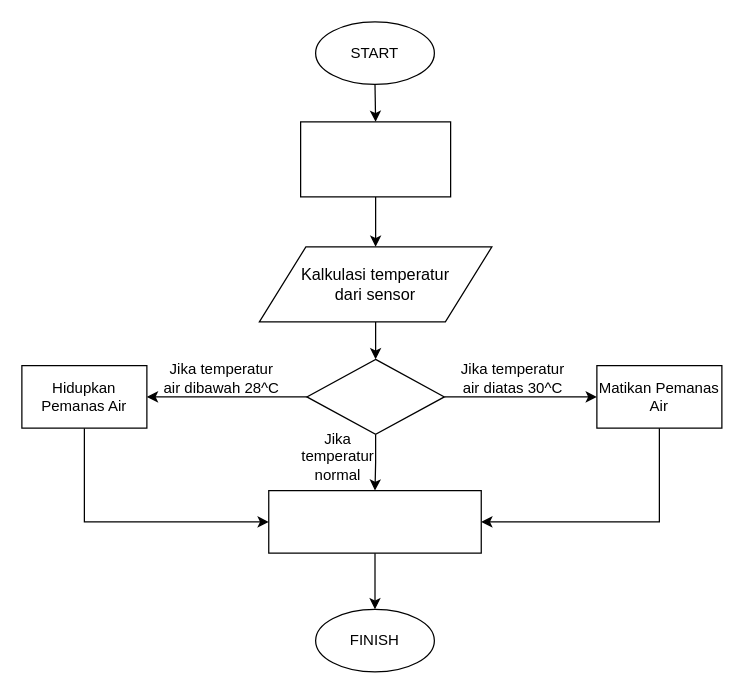
This 744x694 diagram has some shape labels left out. Here are the shapes that lost their labels. From the top down, the centre of each, then its label:
(x=375, y=159): Inisialisasi Lcd dan Sensor
(x=374, y=521): Tampilkan temperature ke lcd dan hidupkan led hijau
